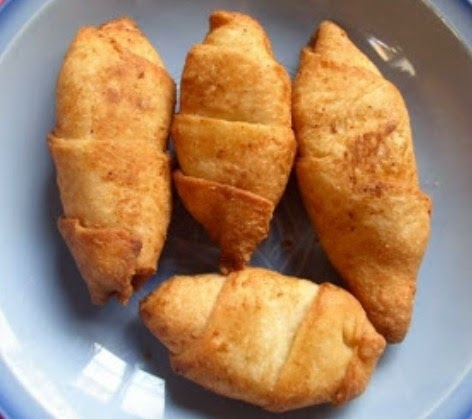pisang_molen: (293, 21, 430, 344), (45, 17, 174, 303), (137, 267, 386, 413), (170, 10, 297, 264)
